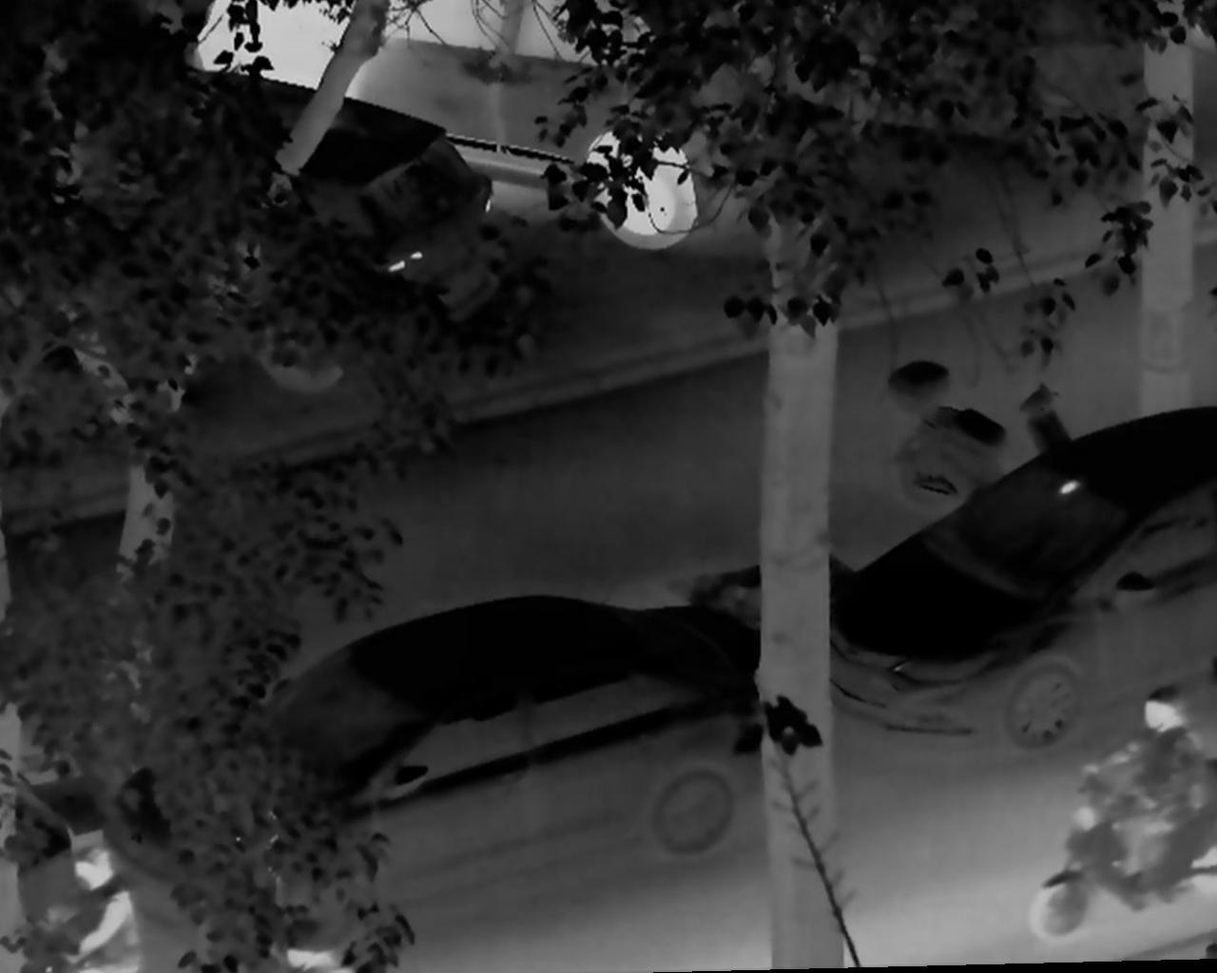person: (1083, 680, 1207, 896), (45, 840, 144, 973)
